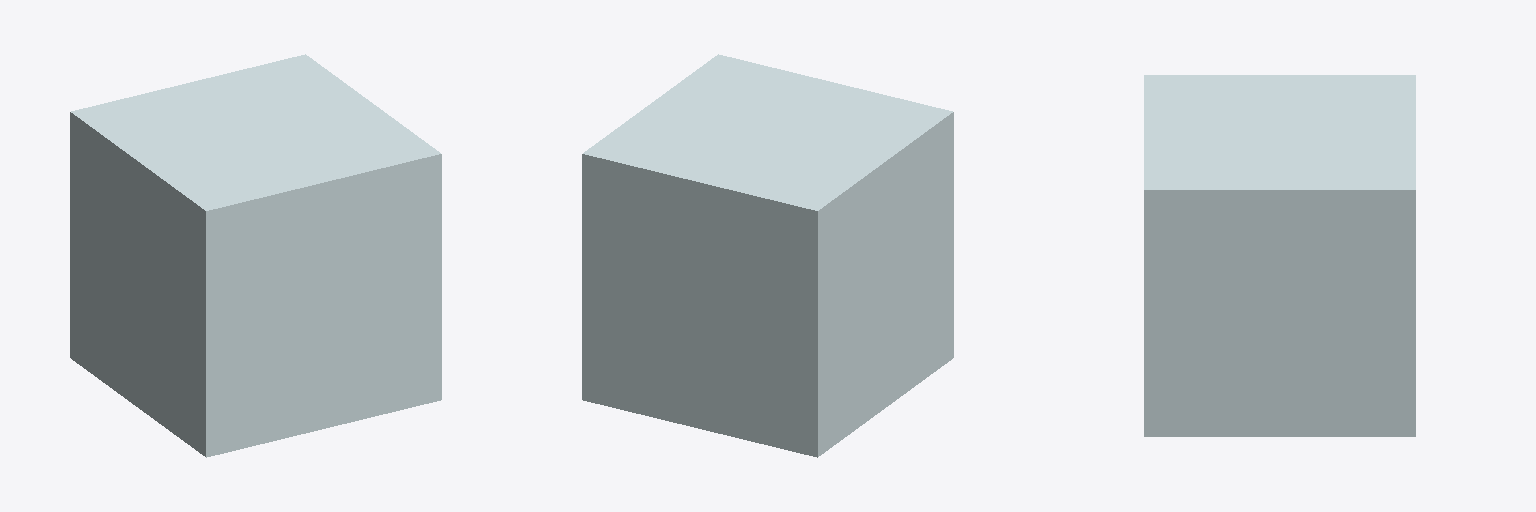
The picture shows the model from 3 angles: view 1: azimuth 30°, elevation 25°; view 2: azimuth 150°, elevation 25°; view 3: azimuth 270°, elevation 25°; orthographic projection.
Visible parts, largest first — view 1: Grass; view 2: Grass; view 3: Grass.
Boxes of the visible parts, x1=… form: Grass: x1=70, y1=54, x2=441, y2=457; Grass: x1=582, y1=54, x2=953, y2=457; Grass: x1=1144, y1=75, x2=1415, y2=436.
Size of the model in its own units: 4 by 4 by 4.
Materials: 1 (1 with a texture image).